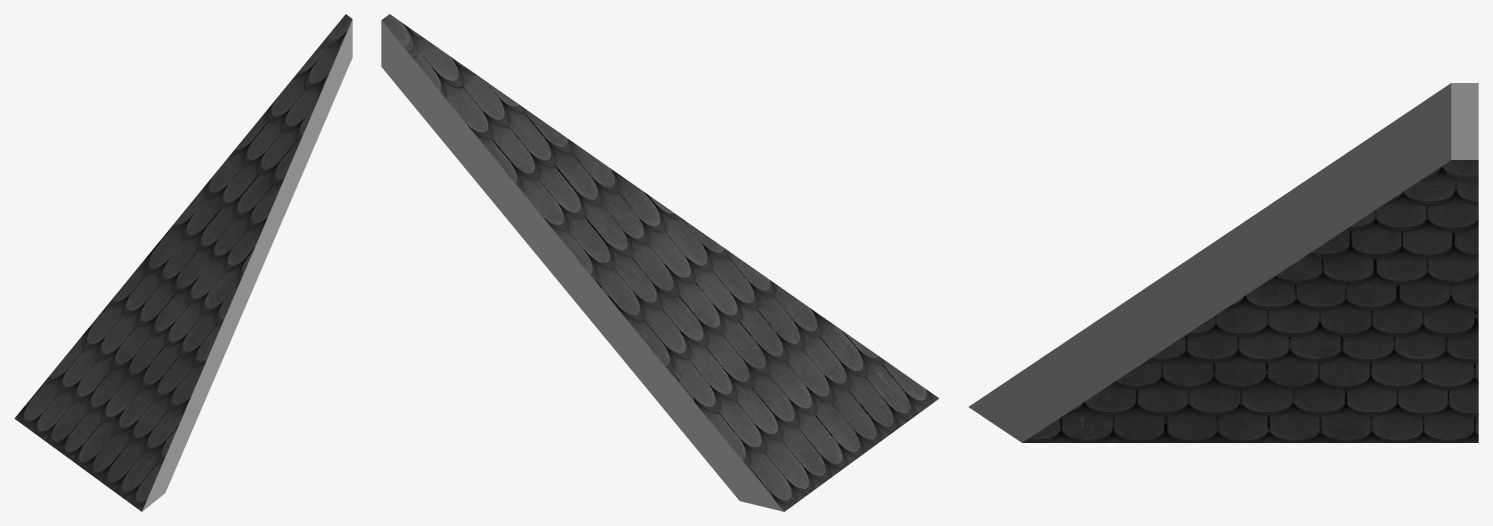
The model's file is SM_Roof_D_002.FBX.
3 views of the same model, side by side, from view 1: azimuth 30°, elevation 25°; view 2: azimuth 150°, elevation 25°; view 3: azimuth 270°, elevation 25° (orthographic). The views are drawn at different scales.
Visible parts, largest first — view 1: SM_Roof_D_002; view 2: SM_Roof_D_002; view 3: SM_Roof_D_002.
Boxes of the visible parts, <box> form: SM_Roof_D_002: <box>14,14,352,511</box>; SM_Roof_D_002: <box>381,14,938,511</box>; SM_Roof_D_002: <box>969,83,1478,442</box>.
Bounding box in the file's own units: 450 × 420 × 300.
